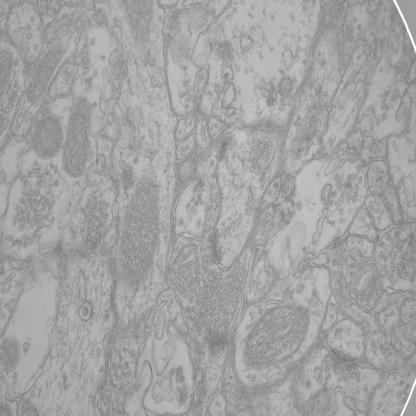mitochondria: (242, 301, 312, 377), (118, 178, 161, 294), (64, 92, 90, 180), (26, 45, 62, 105), (168, 240, 202, 299), (29, 113, 63, 159)
